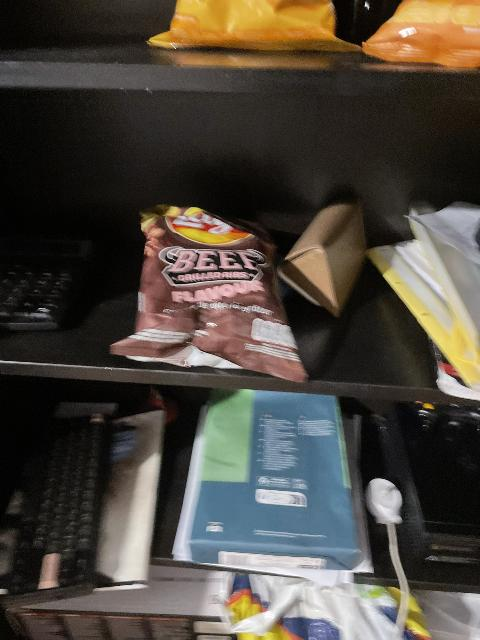Chio Cascaval 125g: (144, 1, 358, 52)
Lays Beef Grilled Ribs 125g: (109, 206, 308, 379)
